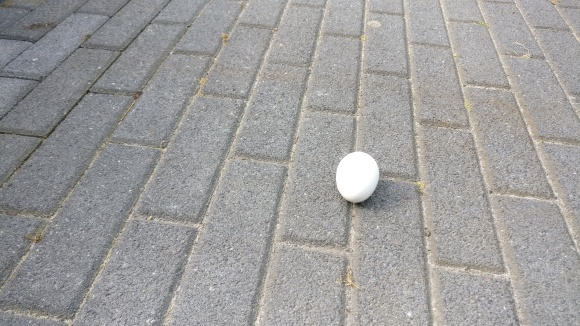egg: (335, 151, 380, 203)
